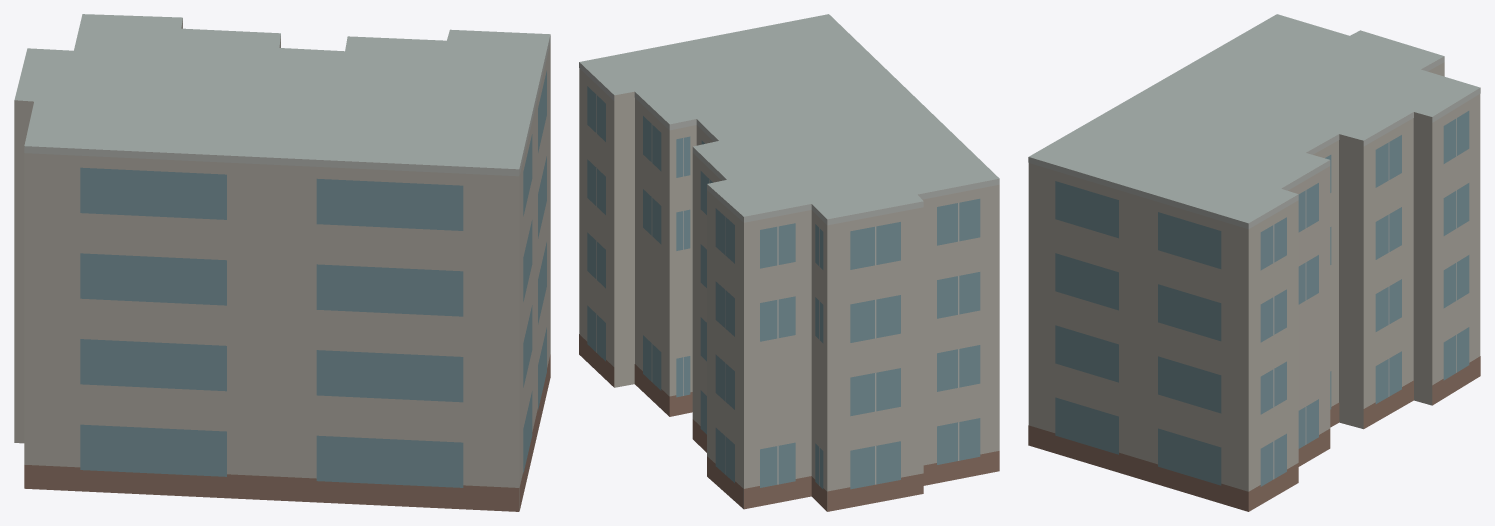
The model's file is survey-upis-32554515.glb.
3 views of the same model, side by side, from view 1: azimuth 30°, elevation 25°; view 2: azimuth 150°, elevation 25°; view 3: azimuth 270°, elevation 25° (orthographic). The views are drawn at different scales.
Parts seen in each view (by area): view 1: survey-upis-32554515.tmp; view 2: survey-upis-32554515.tmp; view 3: survey-upis-32554515.tmp.
Boxes of the visible parts, x1,y1,x2,y2 form: survey-upis-32554515.tmp: [14, 14, 550, 511]; survey-upis-32554515.tmp: [579, 14, 999, 511]; survey-upis-32554515.tmp: [1028, 14, 1480, 511].
Bounding box in the file's own units: 18.53 × 11.9 × 16.9.
